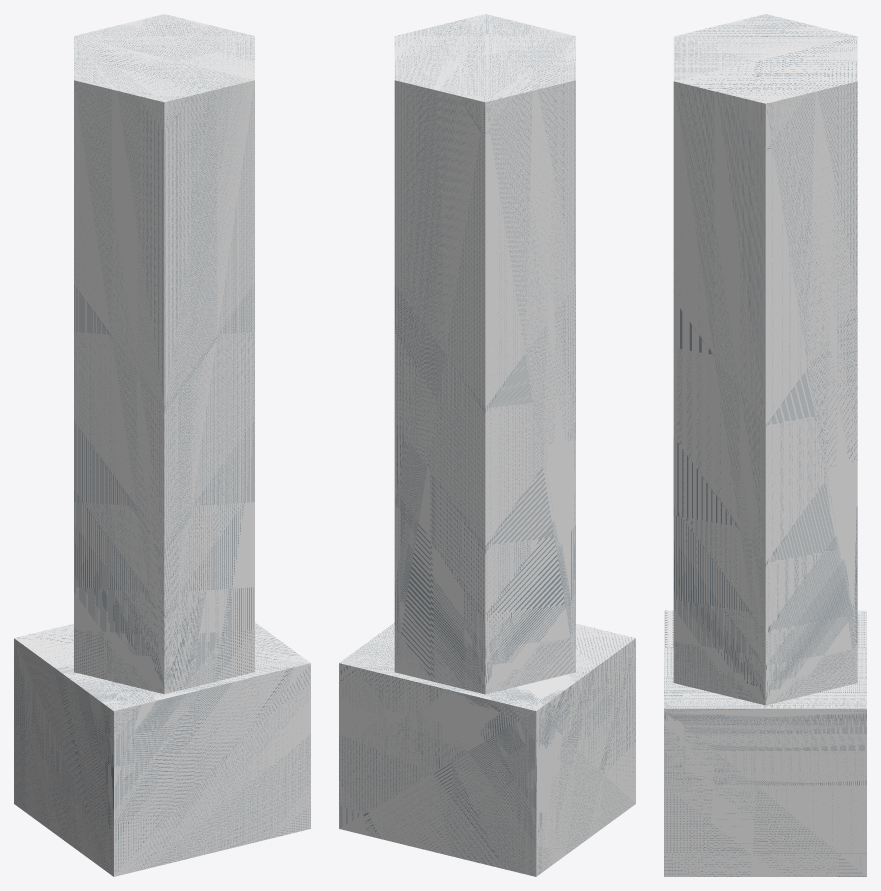
Rendered from pedestal.dae.
The picture shows the model from 3 angles, left to right: view 1: azimuth 30°, elevation 25°; view 2: azimuth 150°, elevation 25°; view 3: azimuth 270°, elevation 25°; orthographic projection.
Parts seen in each view (by area): view 1: group_0, group_1; view 2: group_0, group_1; view 3: group_0, group_1.
Boxes of the visible parts, box(x1,y1,x2,y2) form: group_0: box(74, 14, 254, 694); group_1: box(14, 622, 310, 876); group_0: box(394, 14, 575, 694); group_1: box(339, 622, 635, 876); group_0: box(673, 14, 857, 705); group_1: box(664, 610, 866, 876).
Size of the model in its own units: 34.29 by 30.06 by 126.
